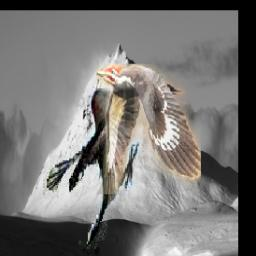Woodpecker: (44, 88, 140, 249), (96, 65, 201, 195)
